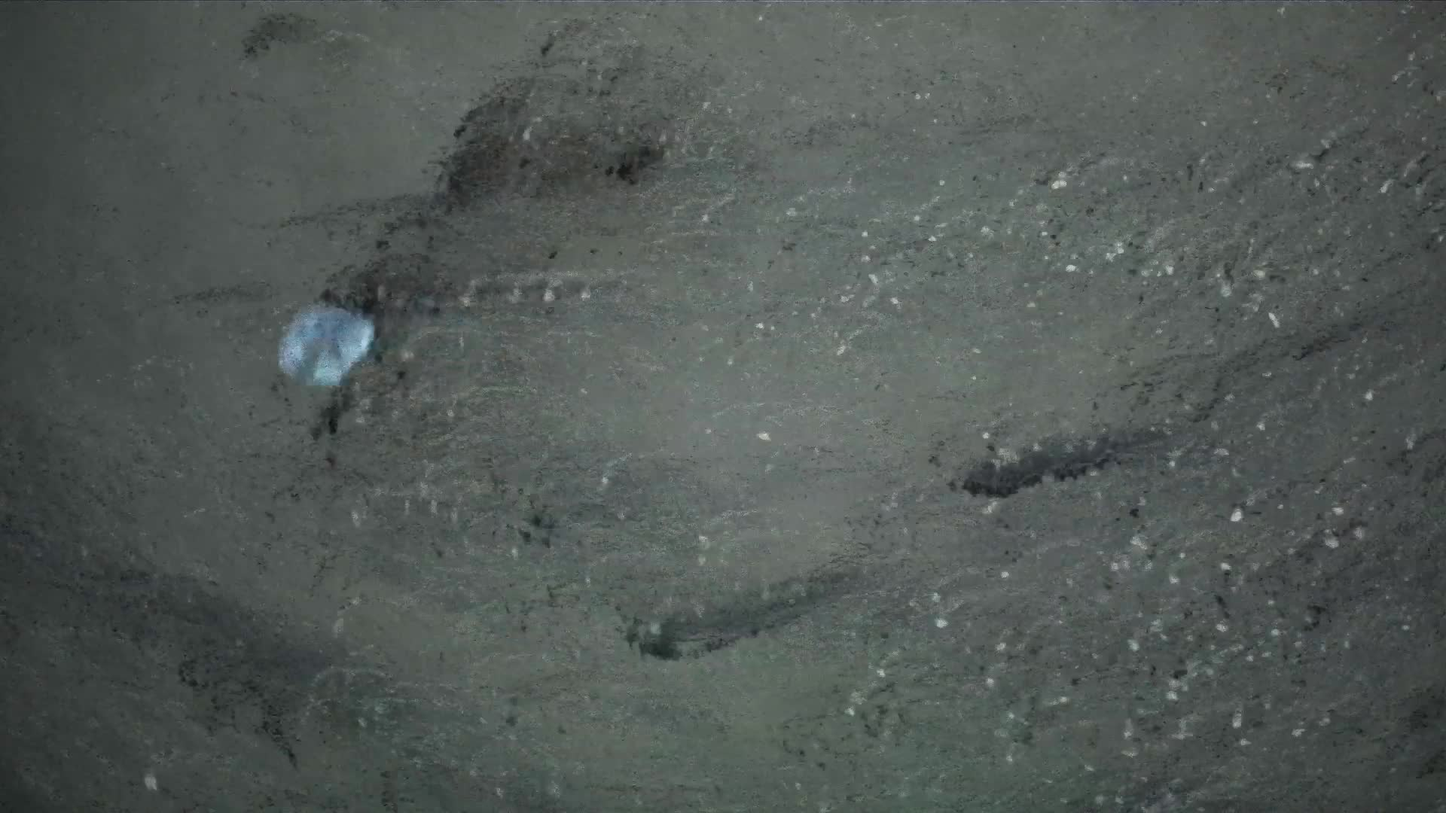Target: (266, 295, 380, 391)
